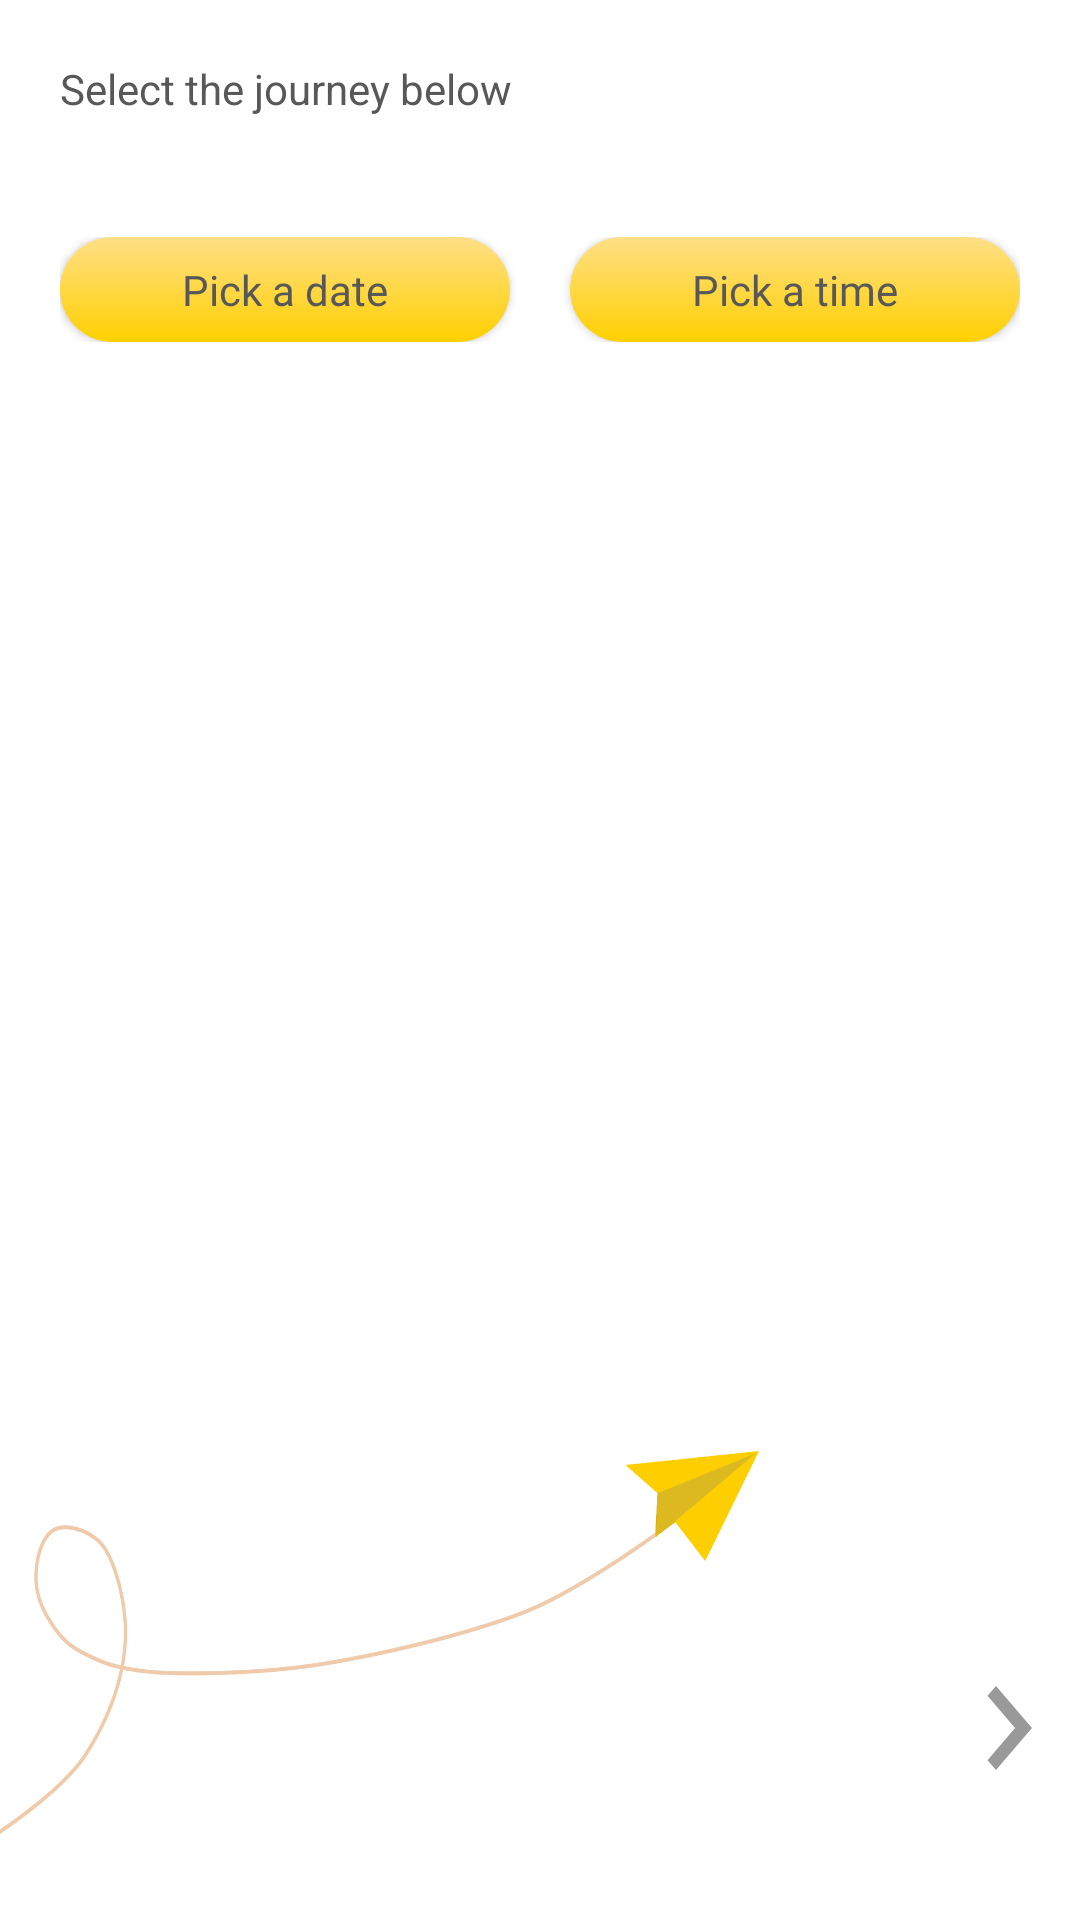

Icons on this 1080x1920 Android screen, each with the point to tap as (x=x, y=y):
navigate next: (x=1010, y=1728)
